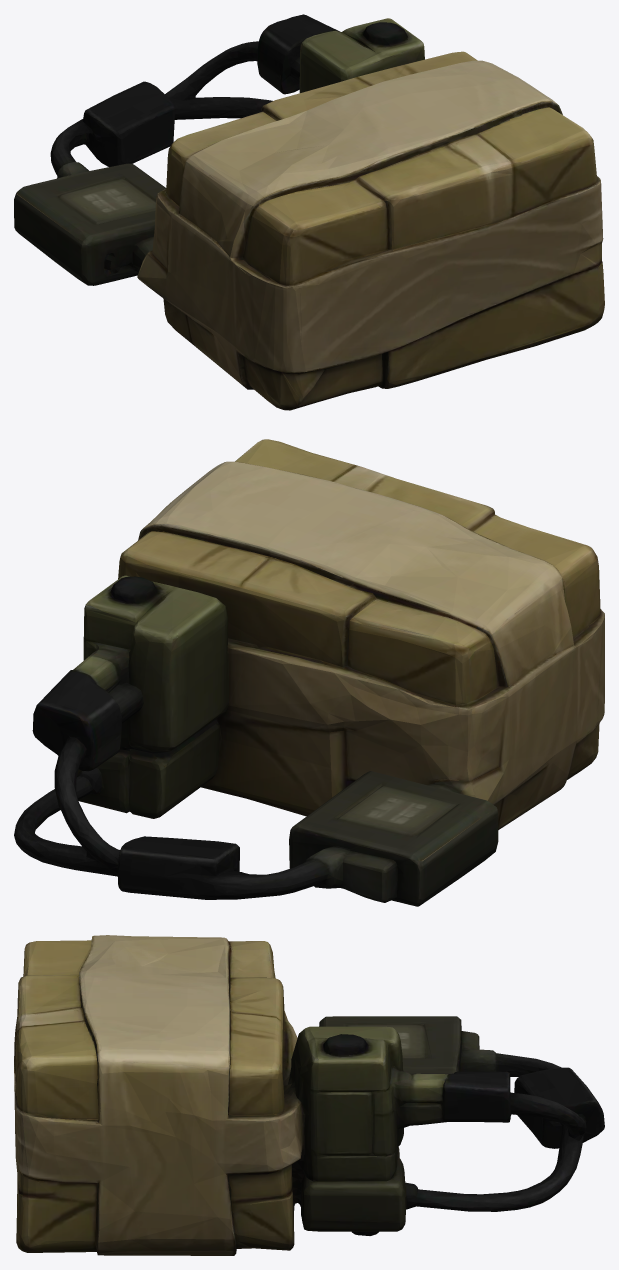
File: black_c4.glb
The picture shows the model from 3 angles, top to bottom: view 1: azimuth 30°, elevation 25°; view 2: azimuth 150°, elevation 25°; view 3: azimuth 270°, elevation 25°; orthographic projection. The views are drawn at different scales.
Parts seen in each view (by area): view 1: geometry_0; view 2: geometry_0; view 3: geometry_0.
Part boxes in pixels (x1=…): geometry_0: x1=14, y1=14, x2=604, y2=410; geometry_0: x1=14, y1=439, x2=604, y2=906; geometry_0: x1=14, y1=935, x2=604, y2=1255.
Bounding box in the file's own units: 0.7276 × 0.4127 × 0.9874.
Materials: 1 (1 with a texture image).
